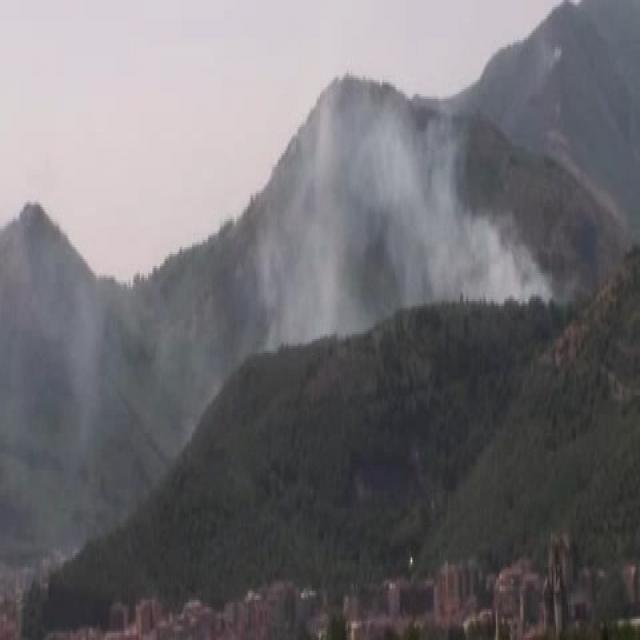smoke: (317, 108, 498, 316)
